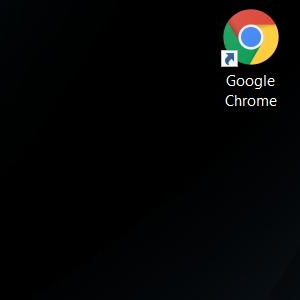chrome: (220, 8, 278, 68)
